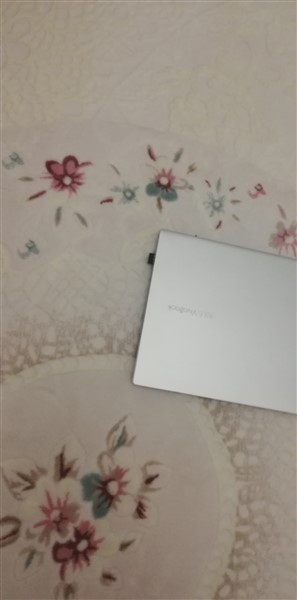laptop: (120, 227, 297, 416)
